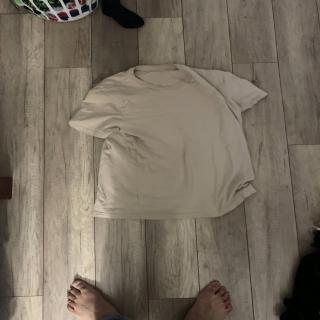Yellow T-Shirt: (66, 61, 271, 221)
